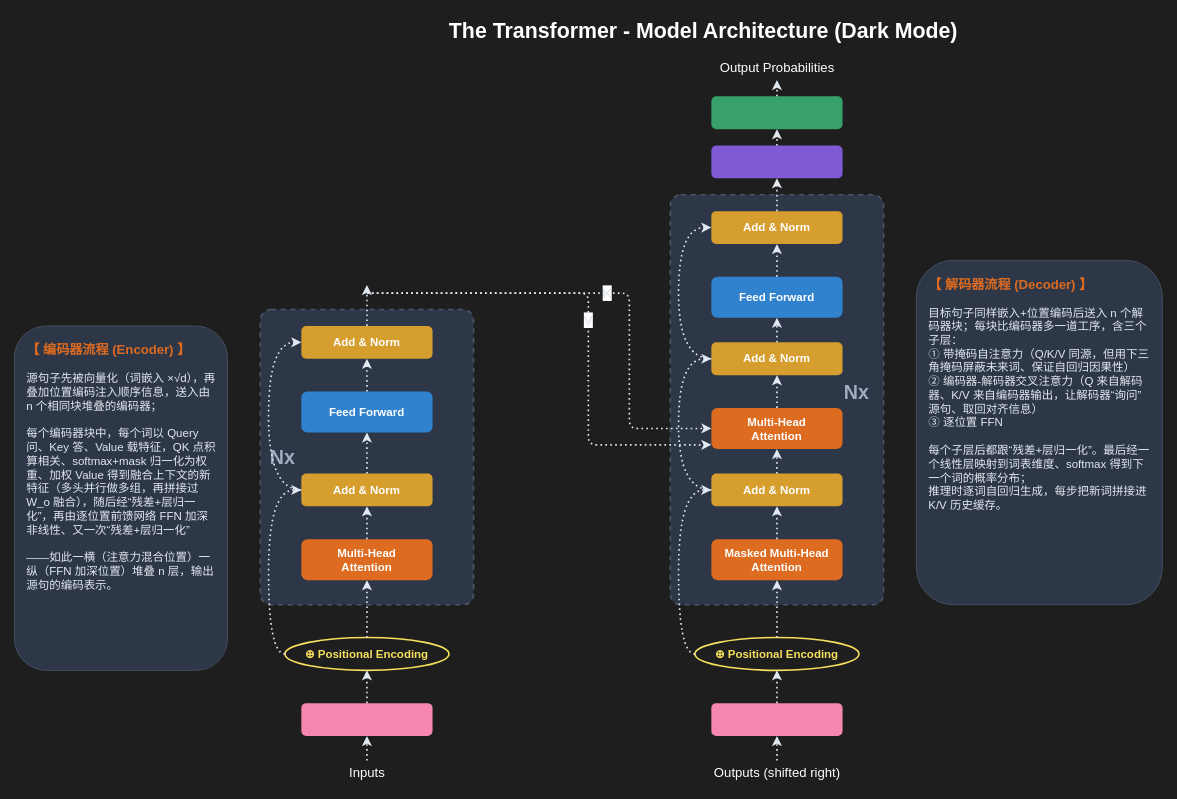
The diagram is 1177 pixels wide and 799 high, and some of its shapes have lost their labels. Each missing label, with the centre of its shape:
"Input Embedding" belongs at (x=366, y=719).
"Linear" belongs at (x=776, y=161).
"Output Embedding" belongs at (x=776, y=719).
"Softmax" belongs at (x=776, y=112).
